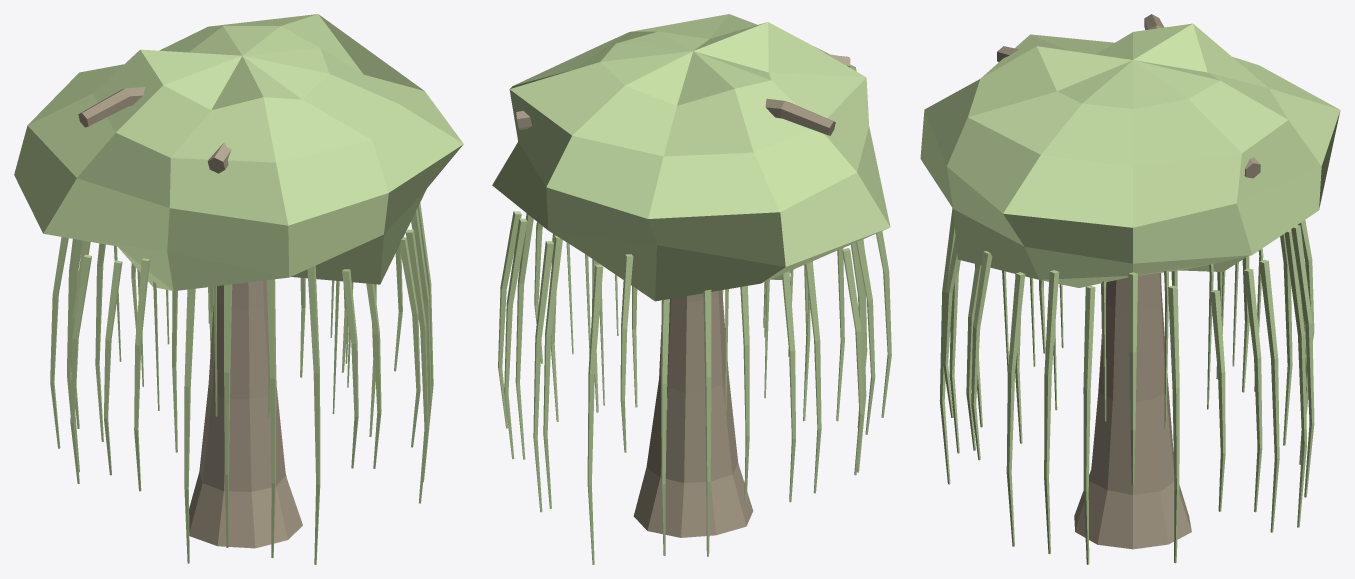
The model's file is willow.glb.
3 renders of one model, left to right at view 1: azimuth 30°, elevation 25°; view 2: azimuth 150°, elevation 25°; view 3: azimuth 270°, elevation 25°, orthographic.
Visible parts, largest first — view 1: leaf, leaf_strands, bark_all; view 2: leaf, leaf_strands, bark_all; view 3: leaf, leaf_strands, bark_all.
Boxes of the visible parts, x1,y1,x2,y2 form: leaf: [14, 14, 463, 290]; leaf_strands: [50, 203, 433, 564]; bark_all: [78, 87, 302, 548]; leaf: [492, 14, 890, 301]; leaf_strands: [498, 211, 891, 564]; bark_all: [516, 53, 850, 537]; leaf: [920, 23, 1340, 287]; leaf_strands: [939, 208, 1314, 564]; bark_all: [997, 14, 1260, 549].
Size of the model in its own units: 4.07 by 4.77 by 3.9.
